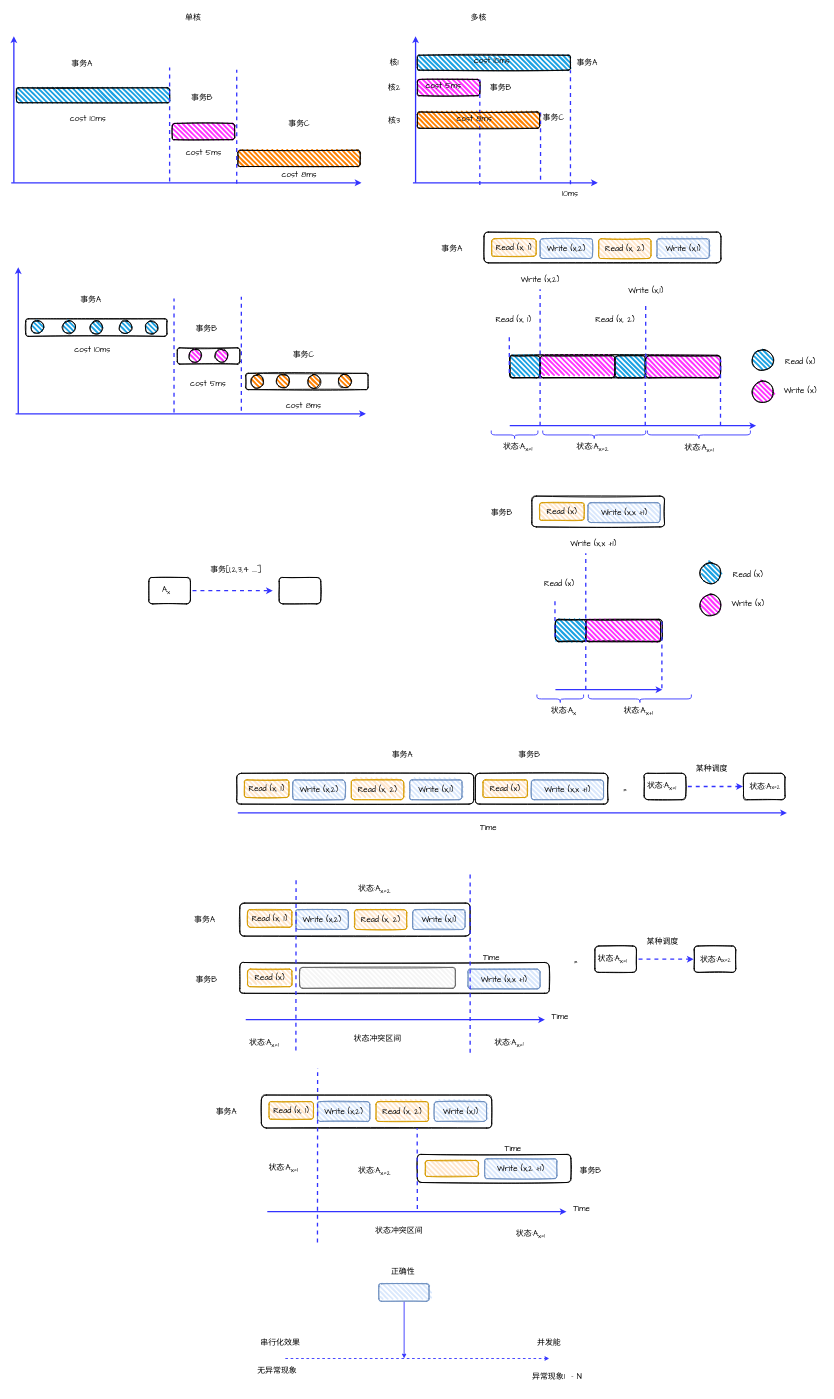
Some shapes in this 834 by 1399 pixel diagram are drawn without their labels. The centre of each missing label's shape, as x and y in pixels:
Blocking: [377,978]
Read (x =2): [452,1168]
状态:A x‘: [300,590]
隔离级别: [403,1292]
